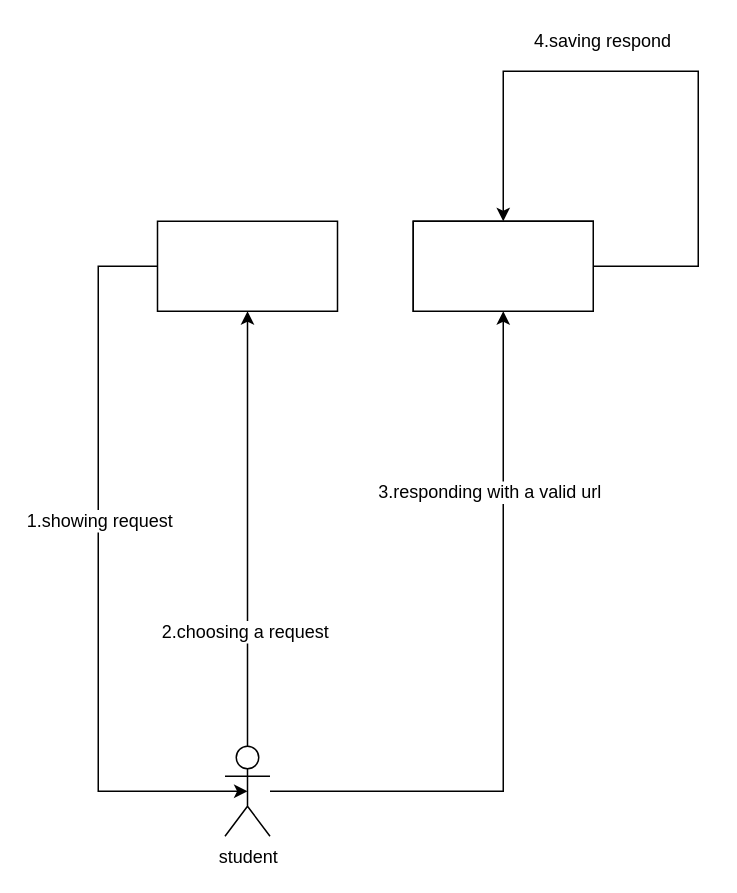
The diagram is 737 pixels wide and 893 high, and some of its shapes have lost their labels. Here are the shapes that lost their labels. From the top down, the box of each, then its label:
(156, 220, 338, 311): request
(412, 220, 593, 311): respond
